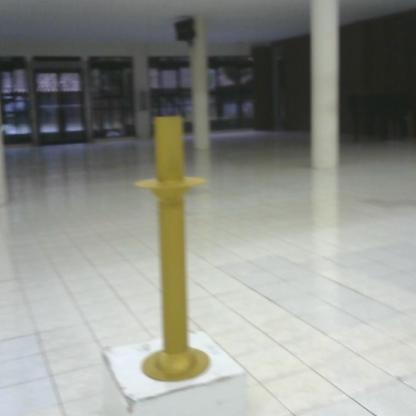pole: (132, 109, 217, 389)
